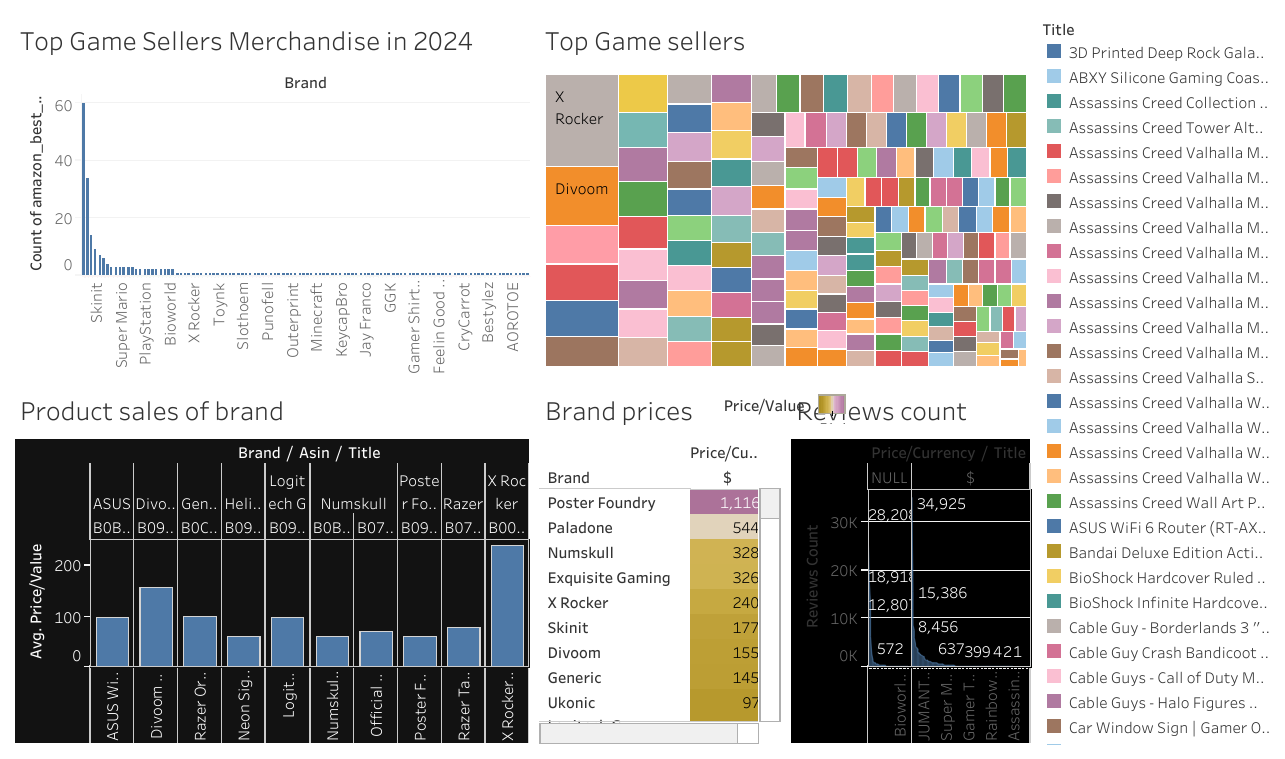

Layout of this report page (visuals, bound fields, positions):
{"tool":"tableau","page":{"name":"Dashboard 1","canvas":[1000,1000],"units":"permille","ordinal":0},"visuals":[{"type":"worksheet","title":"Sheet 5","mark":"Automatic","rows":["amazon_best_sellers_gaming_merchandise_2024.csv_8E0AC7C2F969"],"cols":["brand"],"box":[4.8,9.4,447.8,490.6]},{"type":"worksheet","title":"Sheet 1","mark":"Automatic","box":[452.6,9.4,426.7,490.6]},{"type":"legend","title":"Sheet 1","param":"[federated.0jpbxxu1y2v4a816yo89m1ff4z3t].[none:title:nk]","box":[879.3,9.4,115.9,981.2]},{"type":"worksheet","title":"Sheet 2","mark":"Automatic","rows":["price/value"],"cols":["brand","asin","title"],"box":[4.8,500,447.8,490.6]},{"type":"worksheet","title":"Sheet 3","mark":"Square","rows":["brand"],"cols":["price/currency"],"box":[452.6,500,213.3,490.6]},{"type":"worksheet","title":"Sheet 4","mark":"Area","rows":["reviewsCount"],"cols":["price/currency","title"],"box":[665.9,500,213.4,490.6]},{"type":"legend","title":"Sheet 3","param":"[federated.0jpbxxu1y2v4a816yo89m1ff4z3t].[sum:price/value:qk]","box":[562.5,512.3,99,45.8]}]}

Visuals, with their boxes on the dashboard's canvas, which has no fixed pixel size, in thousandths of its width and height (x1, y1, x2, y2). These are canvas units, not pixel positions in the 1285x759 screenshot, which may show the page scaled, cropped or inside an application window:
"Sheet 5" worksheet: <bbox>5, 9, 453, 500</bbox>
"Sheet 1" worksheet: <bbox>453, 9, 879, 500</bbox>
"Sheet 1" legend: <bbox>879, 9, 995, 991</bbox>
"Sheet 2" worksheet: <bbox>5, 500, 453, 991</bbox>
"Sheet 3" worksheet (Square marks): <bbox>453, 500, 666, 991</bbox>
"Sheet 4" worksheet (Area marks): <bbox>666, 500, 879, 991</bbox>
"Sheet 3" legend: <bbox>562, 512, 662, 558</bbox>
